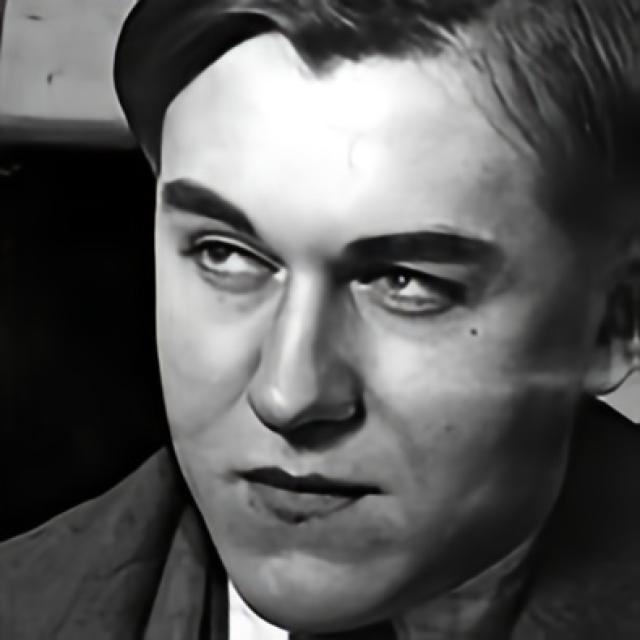content: (154, 32, 588, 634)
